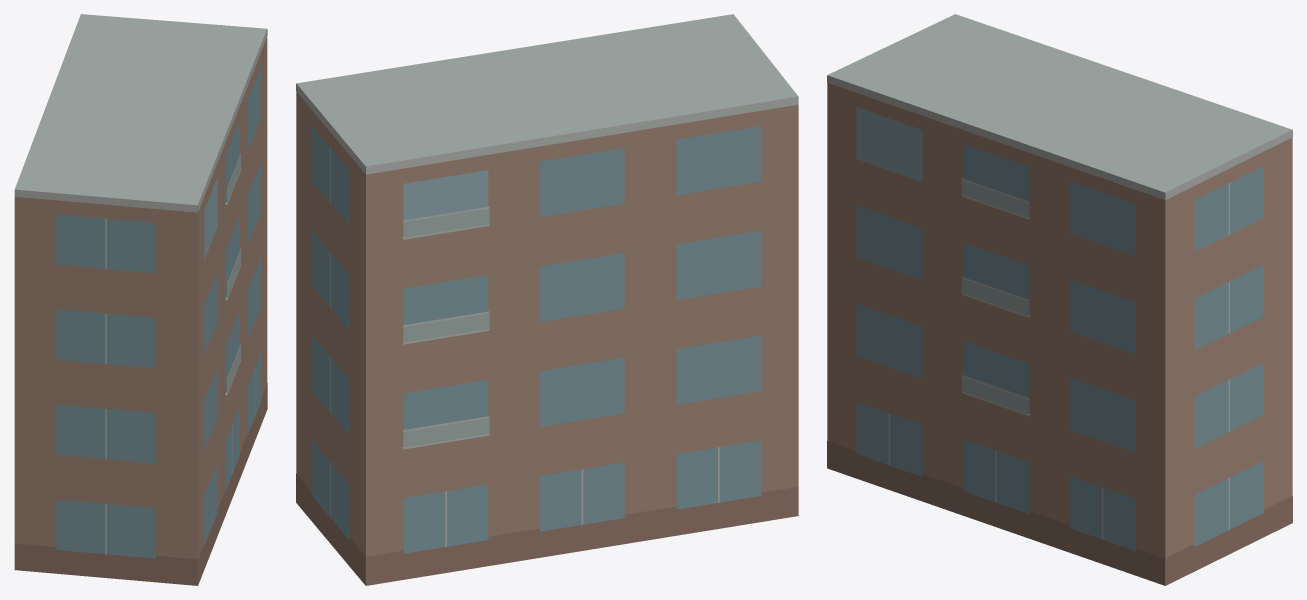
Rendered from survey-upis-32649126.glb.
3 renders of one model, left to right at view 1: azimuth 30°, elevation 25°; view 2: azimuth 150°, elevation 25°; view 3: azimuth 270°, elevation 25°, orthographic. The views are drawn at different scales.
Parts seen in each view (by area): view 1: survey-upis-32649126.tmp; view 2: survey-upis-32649126.tmp; view 3: survey-upis-32649126.tmp.
Boxes of the visible parts, x1,y1,x2,y2 form: survey-upis-32649126.tmp: (14,14,267,585); survey-upis-32649126.tmp: (296,14,798,585); survey-upis-32649126.tmp: (827,14,1292,585).
Size of the model in its own units: 12.49 by 12.8 by 13.75.
